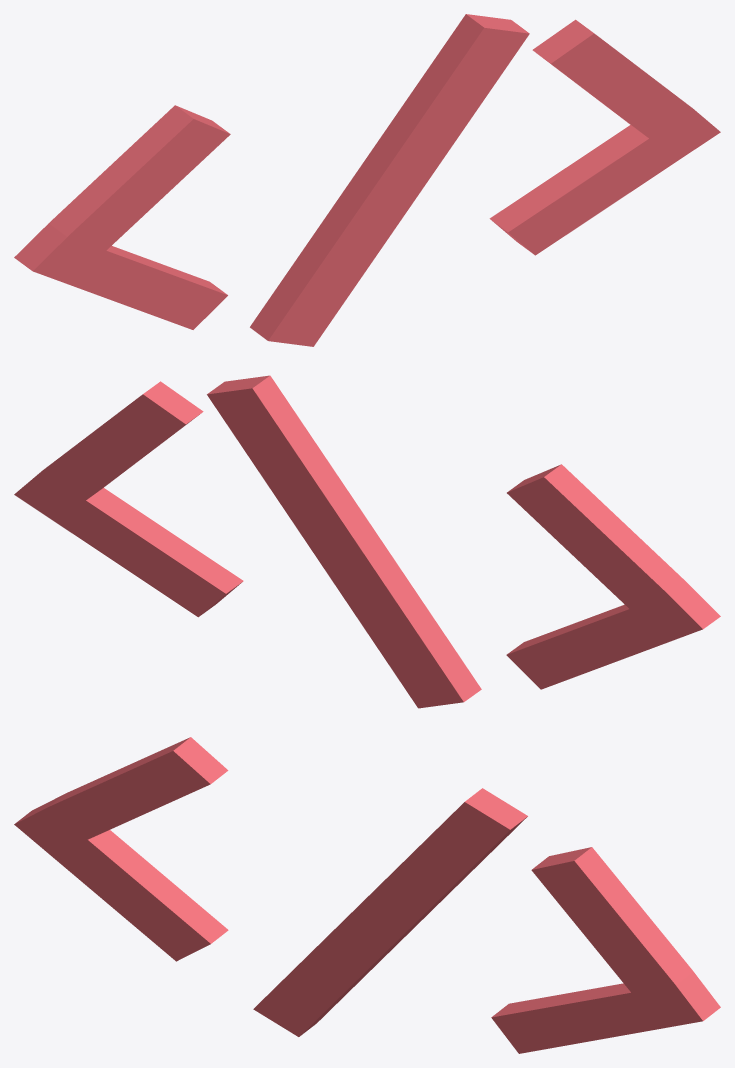
The model's file is Project Name.glb.
3 renders of one model, top to bottom at view 1: azimuth 30°, elevation 25°; view 2: azimuth 150°, elevation 25°; view 3: azimuth 330°, elevation 25°, orthographic.
Parts seen in each view (by area): view 1: Box_3, Box_2 (×2), Box (×2); view 2: Box_3, Box_2 (×2), Box (×2); view 3: Box_2 (×2), Box (×2), Box_3.
Part boxes in pixels (box(x1,y1,x2,y2)): Box_3: box(250, 14, 529, 346); Box_2 (×2): box(14, 109, 720, 329); Box (×2): box(49, 19, 693, 250); Box_3: box(207, 375, 481, 708); Box_2 (×2): box(14, 471, 720, 689); Box (×2): box(41, 381, 686, 610); Box_2 (×2): box(14, 794, 720, 1053); Box (×2): box(48, 737, 693, 994); Box_3: box(253, 788, 527, 1036).
Bounding box in the file's own units: 591 × 229 × 31.79.
